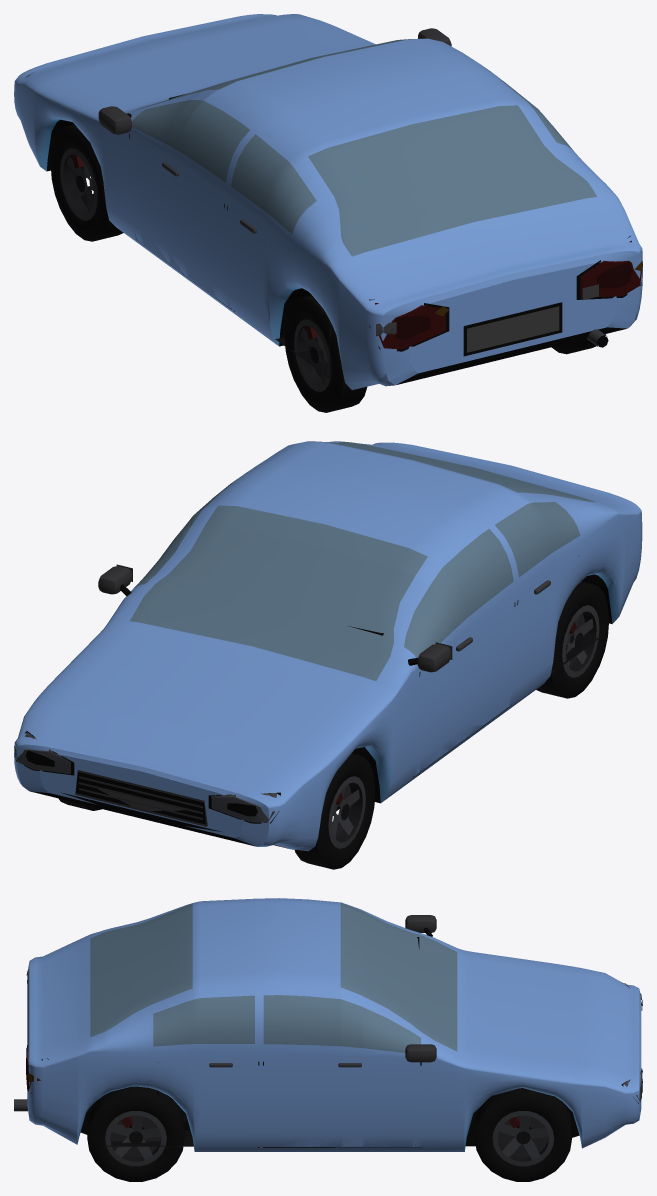
The model's file is cv2_hatch.glb.
3 views of the same model, one above another, from view 1: azimuth 30°, elevation 25°; view 2: azimuth 150°, elevation 25°; view 3: azimuth 270°, elevation 25° (orthographic). The views are drawn at different scales.
Visible parts, largest first — view 1: Body, DoorL_Mesh; view 2: Body, DoorL_Mesh; view 3: Body, DoorR_Mesh.
Part boxes in pixels (x1,y1,x2,y2): Body: (14,14,642,412); DoorL_Mesh: (129,100,249,307); Body: (14,441,642,869); DoorL_Mesh: (404,528,514,774); Body: (14,898,642,1181); DoorR_Mesh: (263,995,420,1146).
Size of what is drawn, in the model's own units: 2.06 by 1.36 by 3.99.
